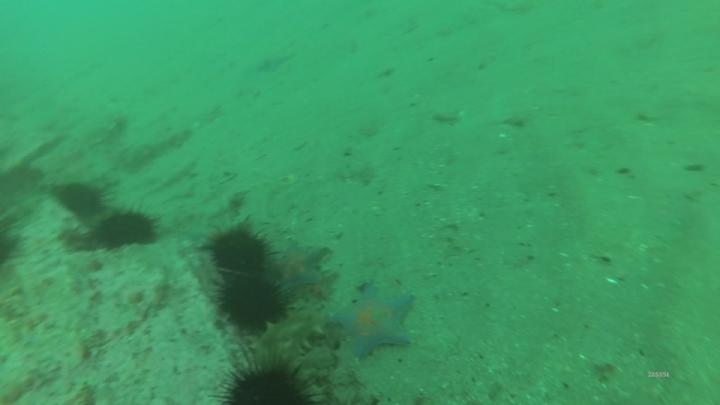echinus: (224, 367, 307, 405), (221, 281, 278, 330), (214, 234, 263, 271), (101, 215, 155, 246), (59, 185, 102, 215)
starfish: (334, 284, 412, 356), (280, 246, 327, 293)
